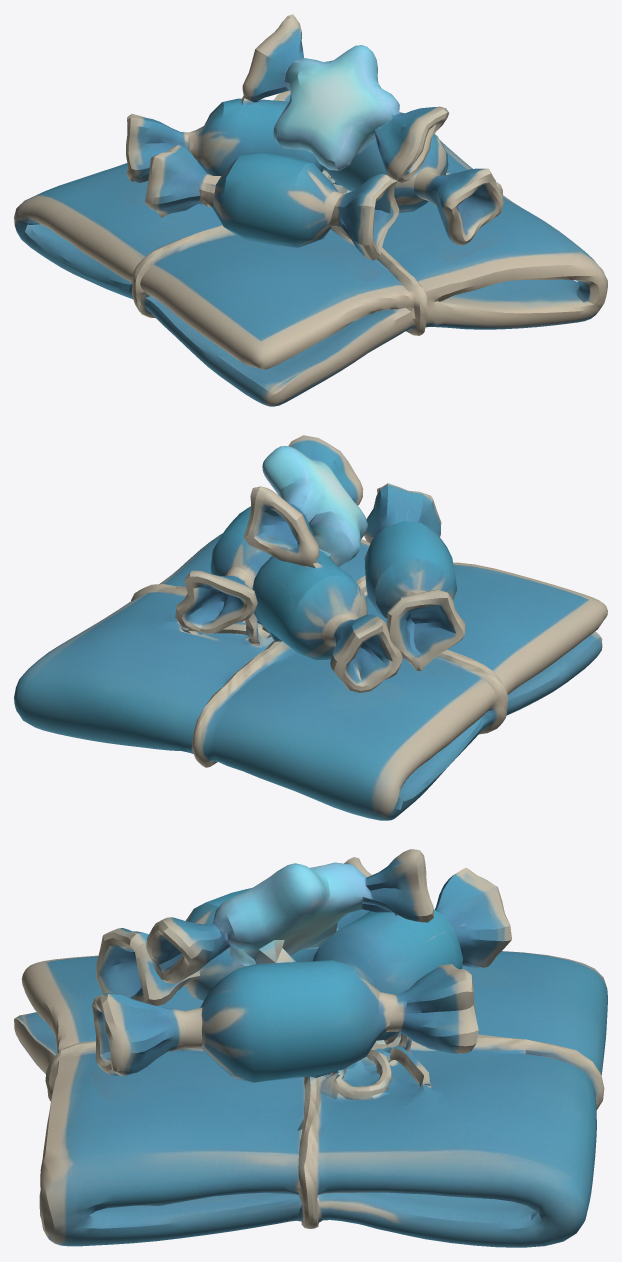
File: candy_great.glb
3 renders of one model, top to bottom at view 1: azimuth 30°, elevation 25°; view 2: azimuth 150°, elevation 25°; view 3: azimuth 270°, elevation 25°, orthographic. The views are drawn at different scales.
Parts seen in each view (by area): view 1: Mesh_0; view 2: Mesh_0; view 3: Mesh_0.
Boxes of the visible parts, <box> form: Mesh_0: <box>14,14,607,406</box>; Mesh_0: <box>14,435,607,820</box>; Mesh_0: <box>14,849,607,1247</box>.
Size of the model in its own units: 1.79 by 1.07 by 1.9.
Materials: 1 (1 with a texture image).
